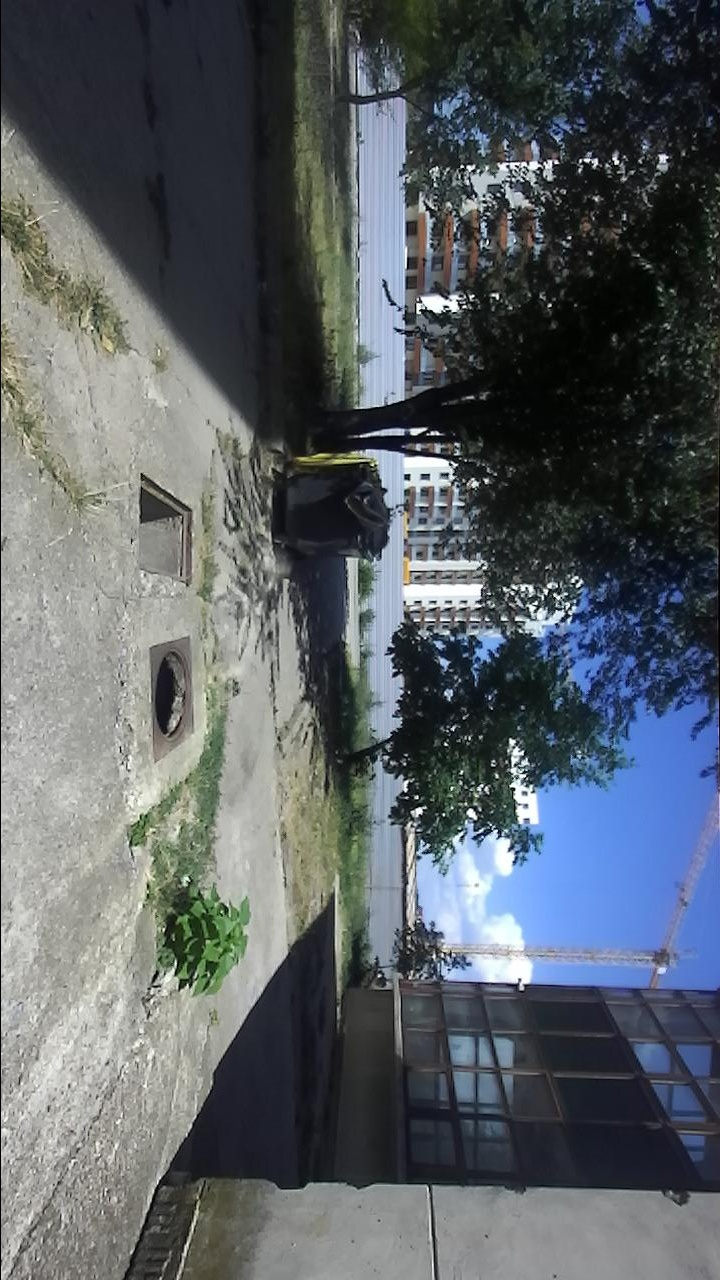drain: (135, 471, 197, 588), (151, 645, 193, 745)
